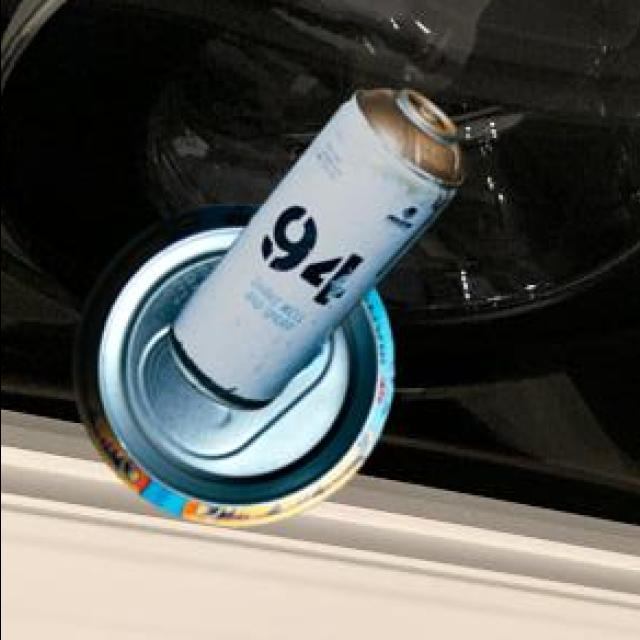logam: (71, 207, 389, 527), (163, 93, 459, 413)
